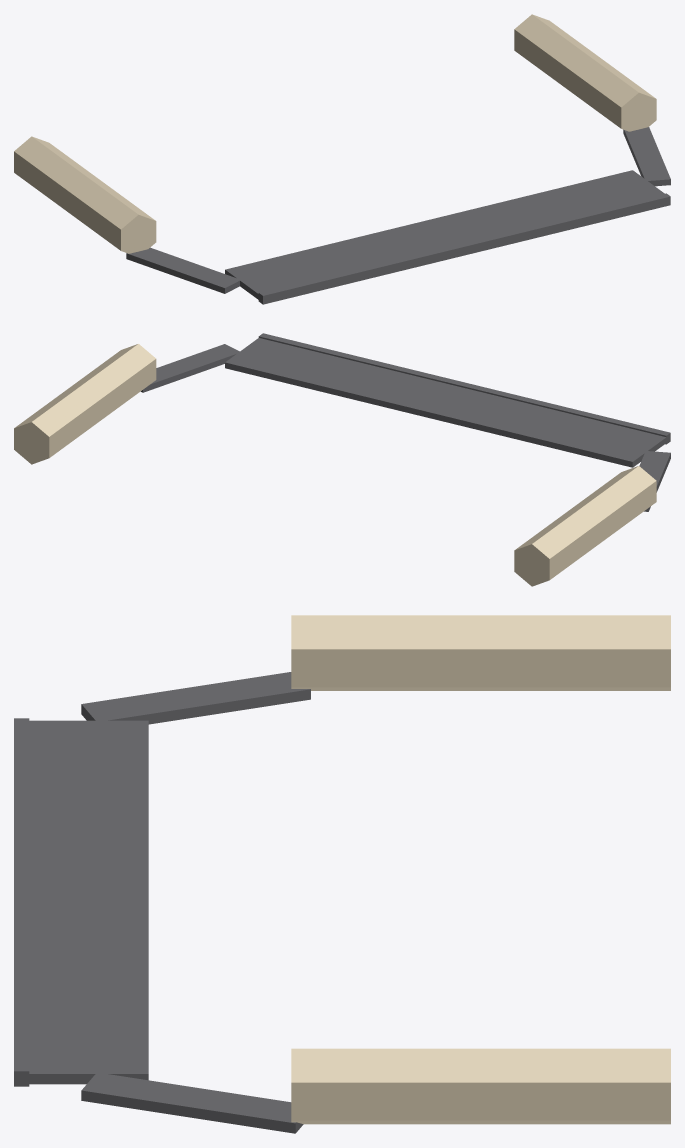
File: prop-scraping-knife-hw1.fbx
3 views of the same model, one above another, from view 1: azimuth 30°, elevation 25°; view 2: azimuth 150°, elevation 25°; view 3: azimuth 270°, elevation 25° (orthographic). The views are drawn at different scales.
Visible parts, largest first — view 1: prop-scraping-knife-hw1; view 2: prop-scraping-knife-hw1; view 3: prop-scraping-knife-hw1.
Part boxes in pixels (left/top/right/bottom): prop-scraping-knife-hw1: left=14, top=14, right=670, bottom=304; prop-scraping-knife-hw1: left=14, top=333, right=670, bottom=586; prop-scraping-knife-hw1: left=14, top=615, right=670, bottom=1133.
Bounding box in the file's own units: 28.91 × 2.27 × 17.3.
